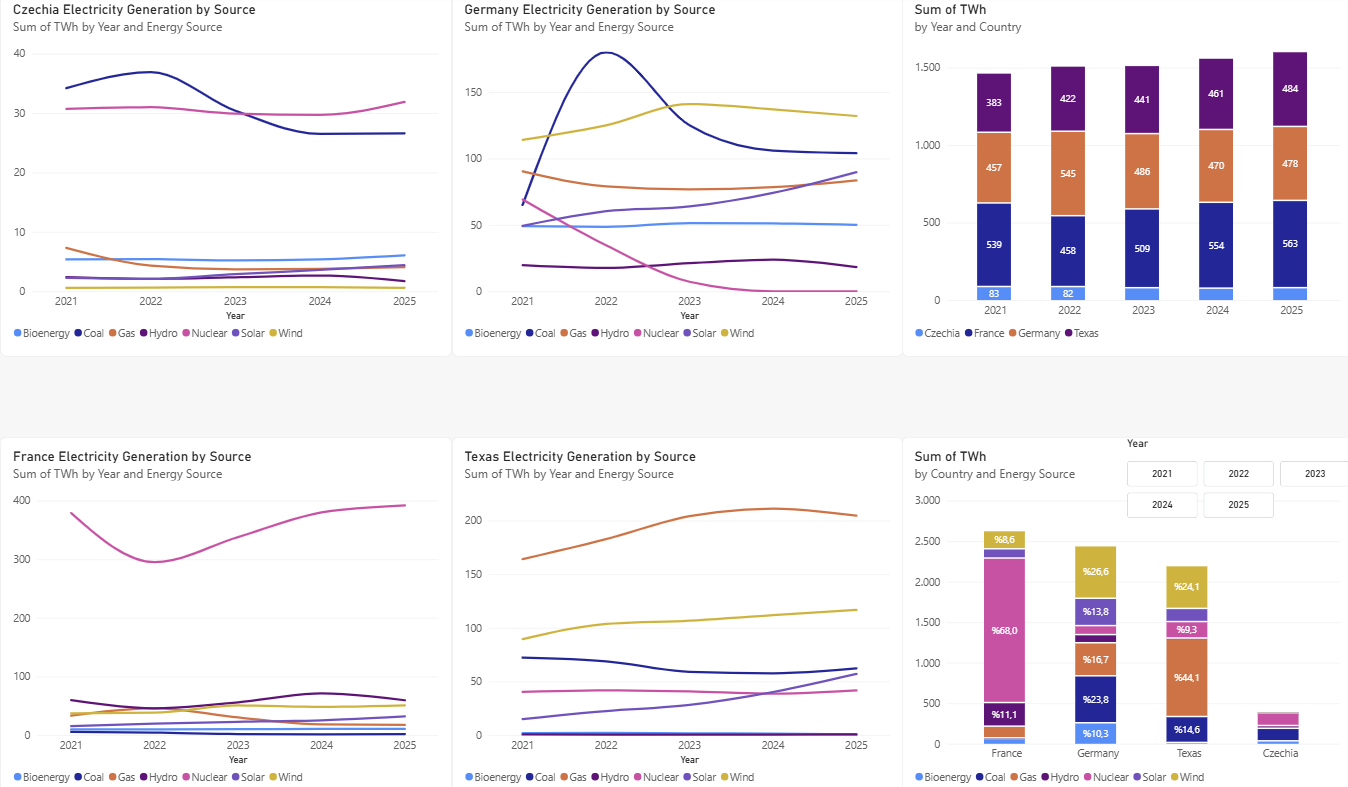

The page's visual inventory and layout, read from the dashboard file:
{"tool":"powerbi","page":{"name":"Page 1","canvas":[1920,1080],"ordinal":0},"visuals":[{"type":"lineChart","title":"Czechia Electricity Generation by Source","fields":{"Category":["PowerBI_Data.Year"],"Series":["PowerBI_Data.Energy Source"],"Y":["Sum(PowerBI_Data.TWh)"]},"box":[10.2,0,601.1,488.8],"z":0},{"type":"lineChart","title":"France Electricity Generation by Source","fields":{"Category":["PowerBI_Data.Year"],"Series":["PowerBI_Data.Energy Source"],"Y":["Sum(PowerBI_Data.TWh)"]},"box":[10.2,595.3,601.1,484.4],"z":1000},{"type":"lineChart","title":"Germany Electricity Generation by Source","fields":{"Category":["PowerBI_Data.Year"],"Series":["PowerBI_Data.Energy Source"],"Y":["Sum(PowerBI_Data.TWh)"]},"box":[611.3,0,601.1,488.8],"z":2000},{"type":"lineChart","title":"Texas Electricity Generation by Source","fields":{"Category":["PowerBI_Data.Year"],"Series":["PowerBI_Data.Energy Source"],"Y":["Sum(PowerBI_Data.TWh)"]},"box":[611.3,595.3,601.1,484.4],"z":3000},{"type":"columnChart","fields":{"Category":["PowerBI_Data.Year"],"Series":["PowerBI_Data.Country"],"Y":["Sum(PowerBI_Data.TWh)"]},"box":[1212.4,0,601.1,488.8],"z":4000},{"type":"columnChart","fields":{"Category":["PowerBI_Data.Country"],"Series":["PowerBI_Data.Energy Source"],"Y":["Sum(PowerBI_Data.TWh)"]},"box":[1212.4,595.3,601.1,484.4],"z":5000},{"type":"advancedSlicerVisual","fields":{"Values":["PowerBI_Data.Year"]},"box":[1512.9,595.3,300.5,109.4],"z":5001}]}

Visuals, with their boxes on the page's 1920x1080 design canvas (x1, y1, x2, y2). These are canvas units, not pixel positions in the 1348x787 screenshot, which may show the page scaled, cropped or inside an application window:
"Czechia Electricity Generation by Source" lineChart: {"left": 10, "top": 0, "right": 611, "bottom": 489}
"France Electricity Generation by Source" lineChart: {"left": 10, "top": 595, "right": 611, "bottom": 1080}
"Germany Electricity Generation by Source" lineChart: {"left": 611, "top": 0, "right": 1212, "bottom": 489}
"Texas Electricity Generation by Source" lineChart: {"left": 611, "top": 595, "right": 1212, "bottom": 1080}
columnChart - PowerBI_Data.Year x PowerBI_Data.Country: {"left": 1212, "top": 0, "right": 1814, "bottom": 489}
columnChart - PowerBI_Data.Country x PowerBI_Data.Energy Source: {"left": 1212, "top": 595, "right": 1814, "bottom": 1080}
advancedSlicerVisual - PowerBI_Data.Year: {"left": 1513, "top": 595, "right": 1813, "bottom": 705}
